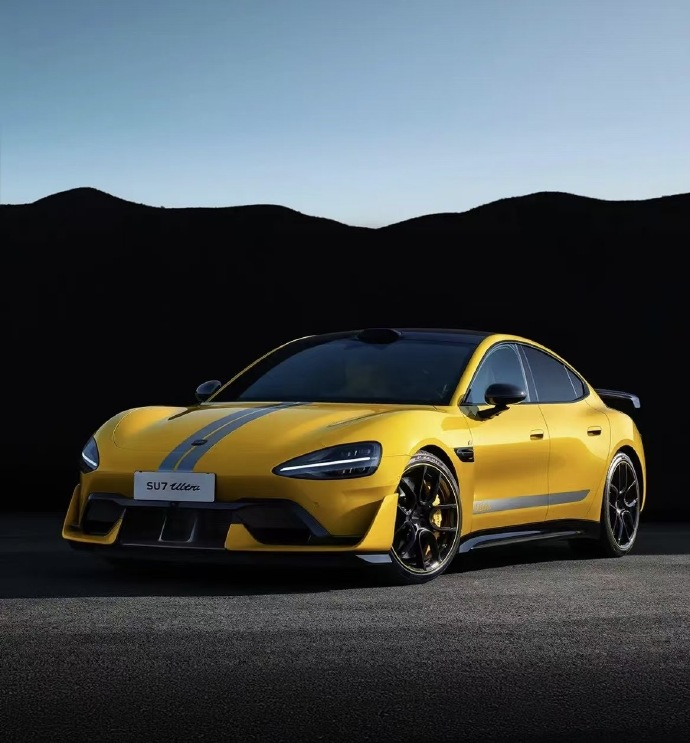su7: (64, 324, 653, 565)
